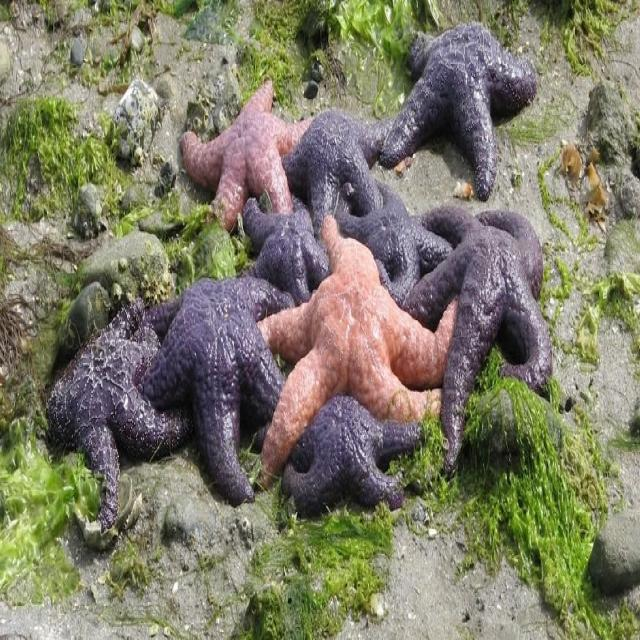starfish: (257, 217, 457, 483), (396, 206, 551, 469), (142, 278, 294, 504), (47, 300, 191, 534), (380, 22, 537, 200), (180, 80, 312, 230), (282, 396, 420, 516), (336, 183, 451, 303), (283, 110, 391, 235), (244, 200, 328, 303)
